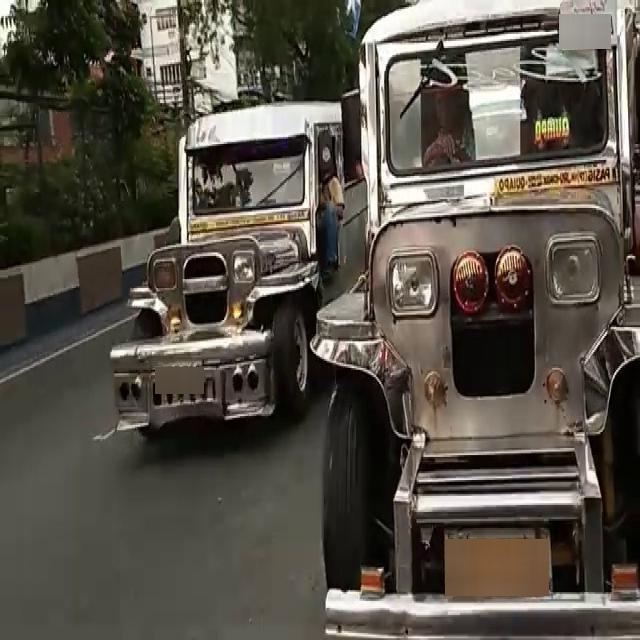jeepney: (328, 14, 640, 626), (119, 88, 353, 454)
